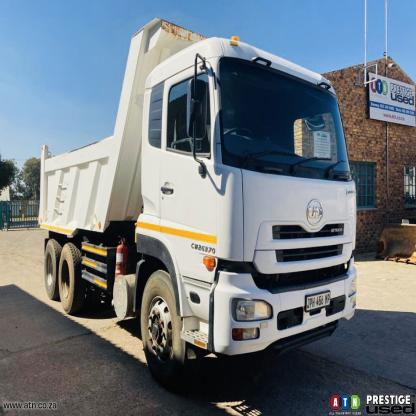dump_truck: (31, 12, 362, 392)
